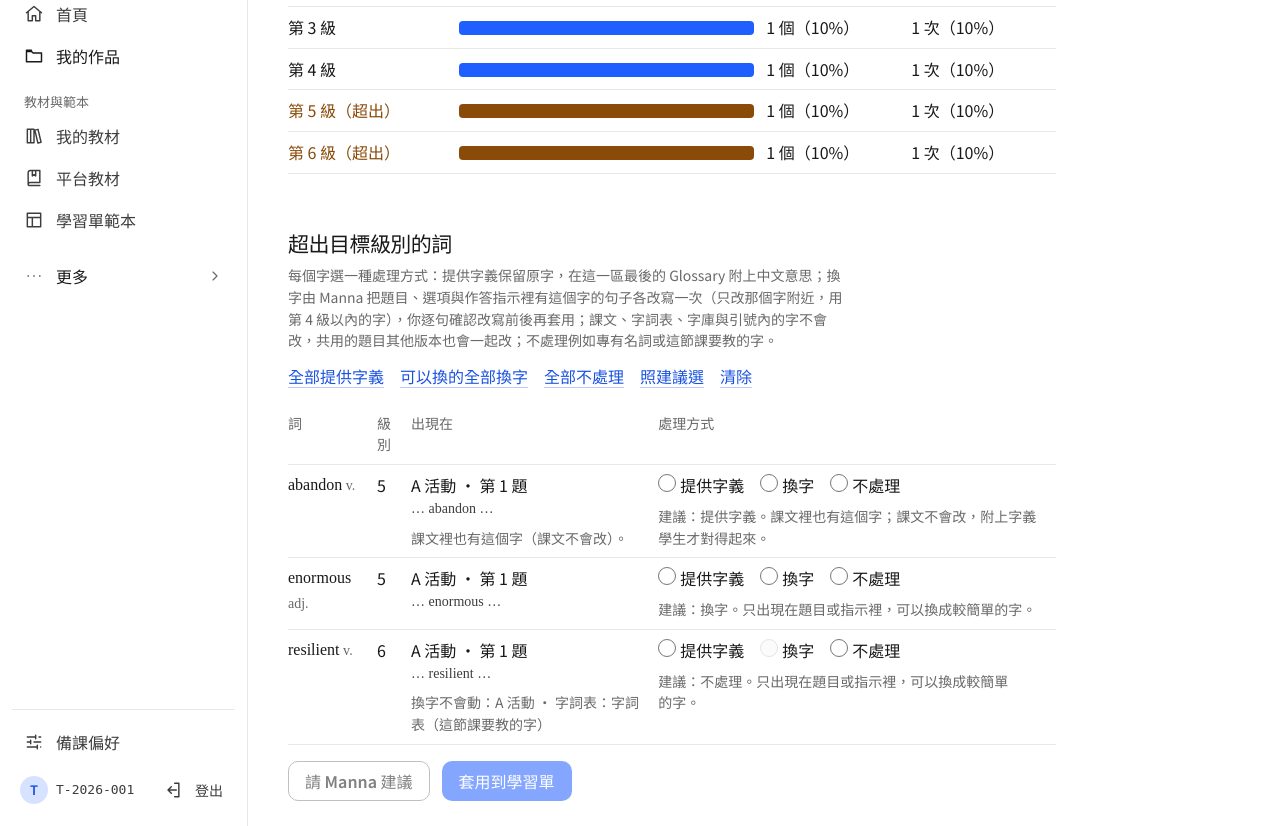
Test: 詞彙級別檢查：處理超出級別的字 › says when the worksheet changed after the analysis
This screenshot has width=1280, height=826.
(page scrolled)
Expected: the heading "超出目標級別的詞" is shown, [288,228,452,258]
Click the button "全部不處理": {"x": 584, "y": 376} [544,364,624,389]
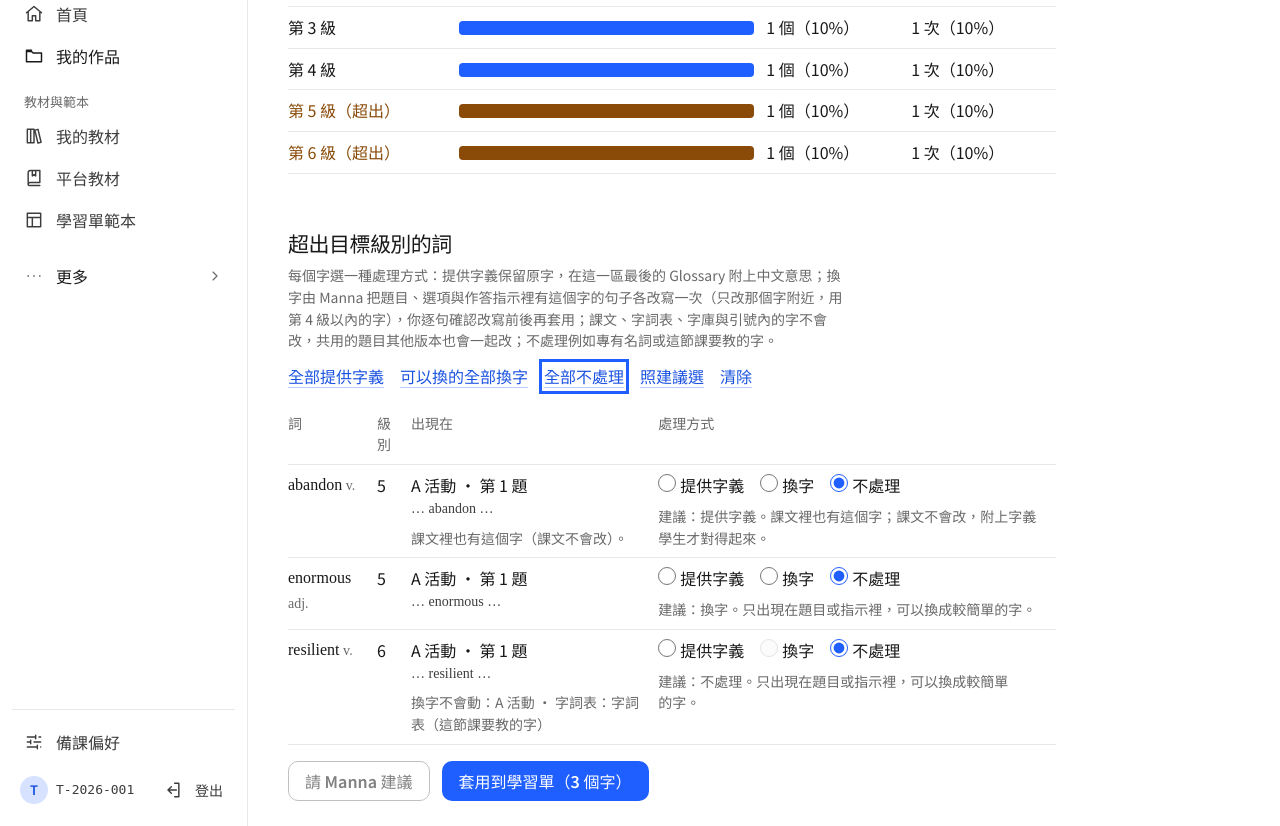
Click the button "套用到學習單（3 個字）": {"x": 545, "y": 781} [442,761,648,801]
(page scrolled)
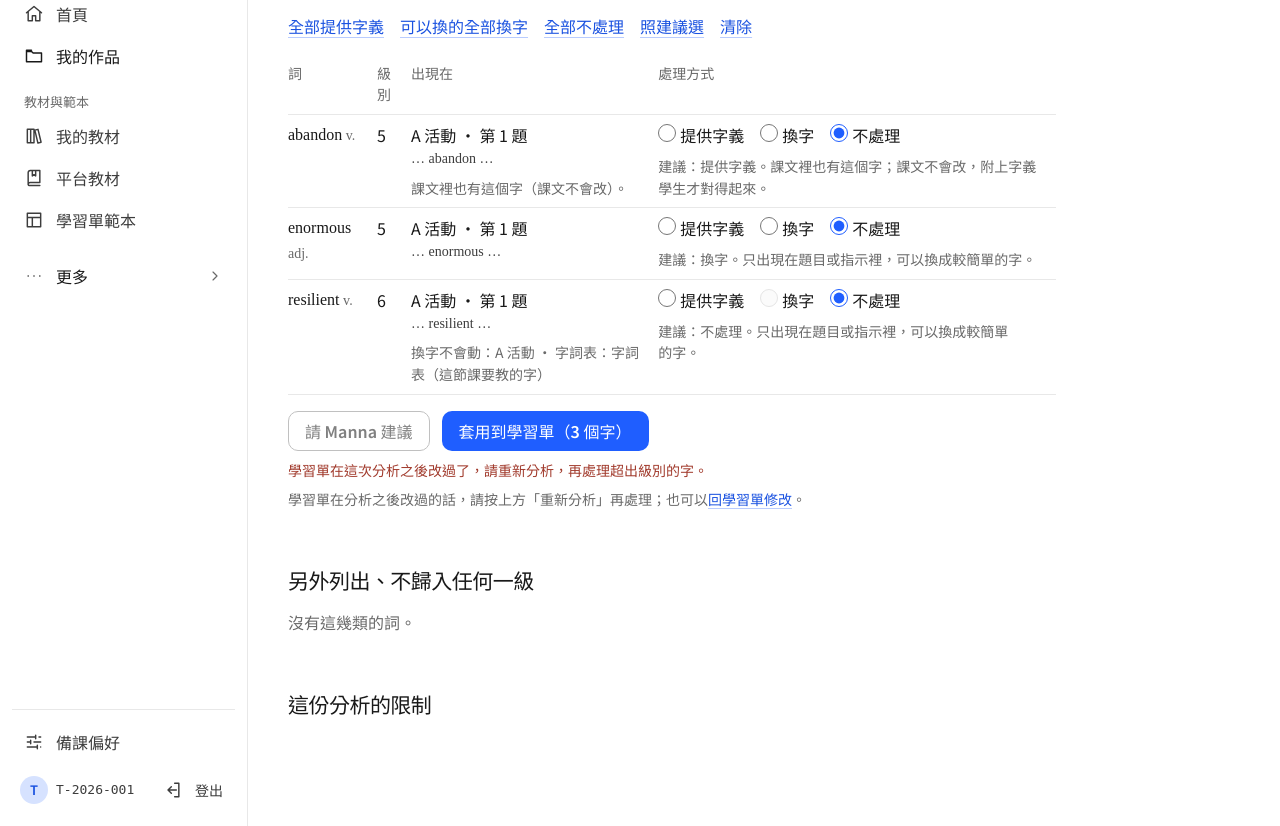
Expected: the text "學習單在這次分析之後改過了，請重新分析，再處理超出級別的字。" is shown, [288,460,708,480]
